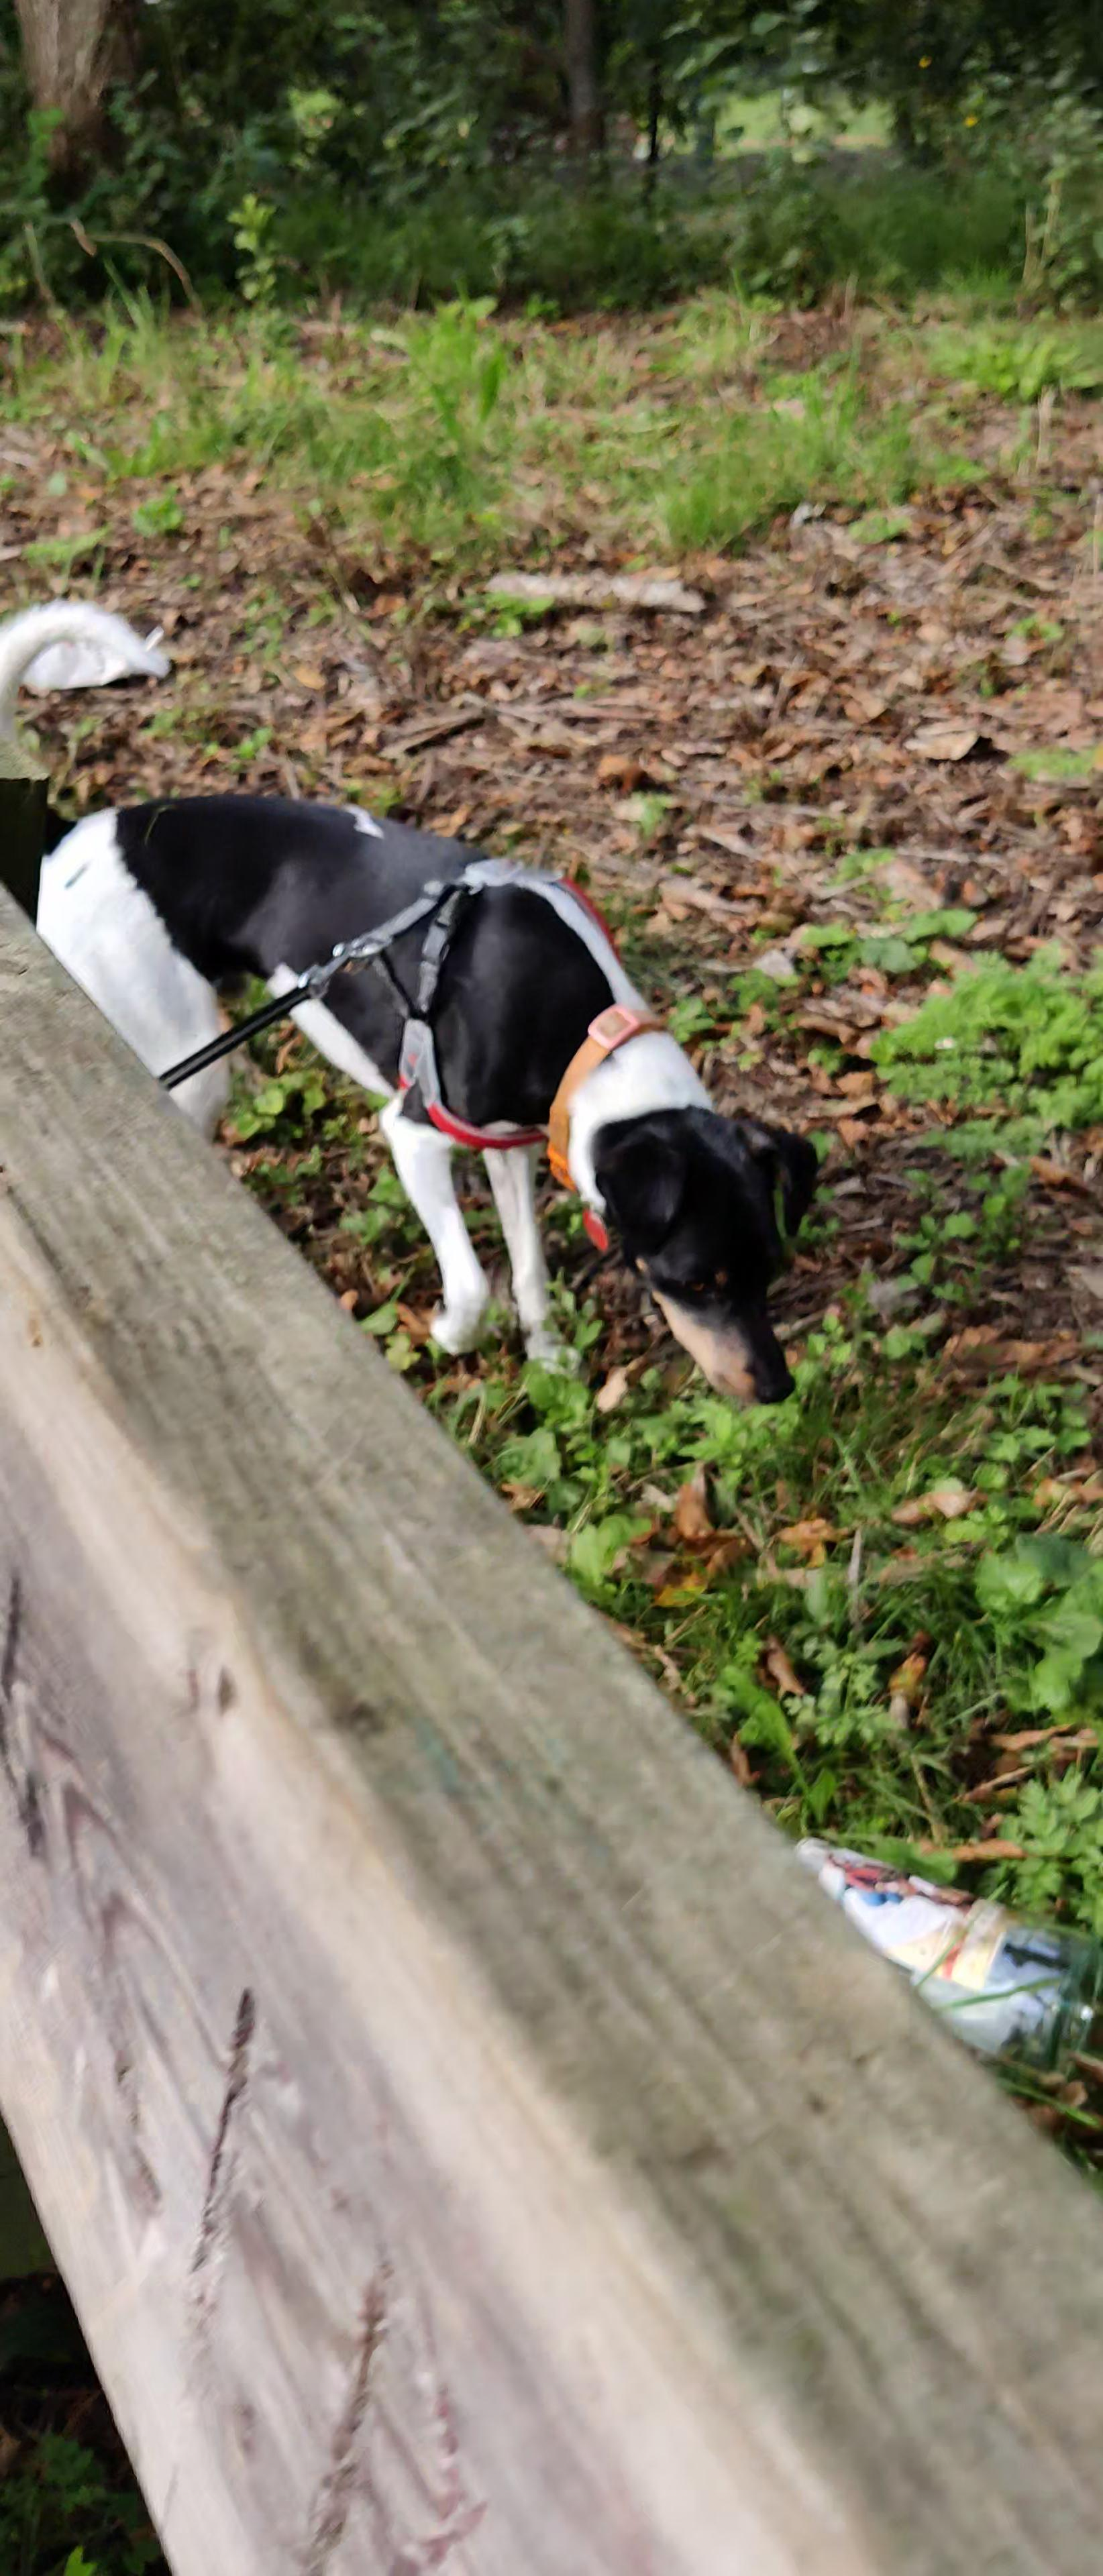Dog: (0, 590, 858, 1424)
